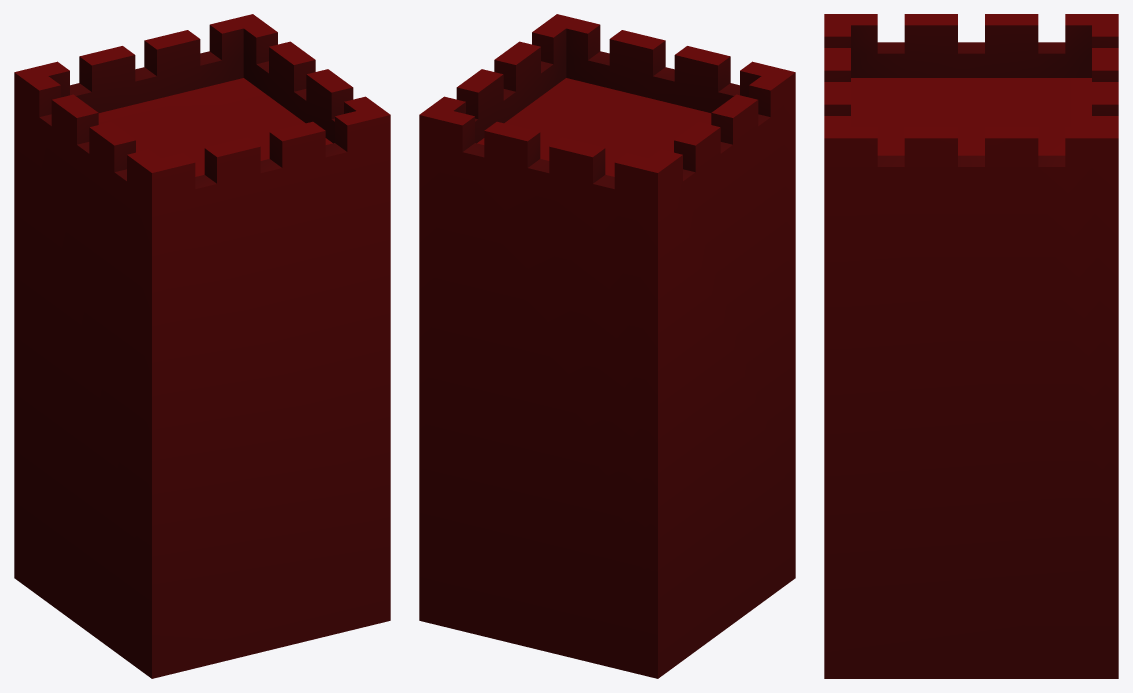
The model's file is buildings-ruins-castleruins_v3.fbx.
The picture shows the model from 3 angles, left to right: view 1: azimuth 30°, elevation 25°; view 2: azimuth 150°, elevation 25°; view 3: azimuth 270°, elevation 25°; orthographic projection. The views are drawn at different scales.
Visible parts, largest first — view 1: CastleRuins_v3; view 2: CastleRuins_v3; view 3: CastleRuins_v3.
Part boxes in pixels (x1,y1,x2,y2): CastleRuins_v3: [14, 14, 390, 678]; CastleRuins_v3: [419, 14, 795, 678]; CastleRuins_v3: [824, 14, 1118, 678].
Size of the model in its own units: 12.24 by 24.77 by 12.24.
